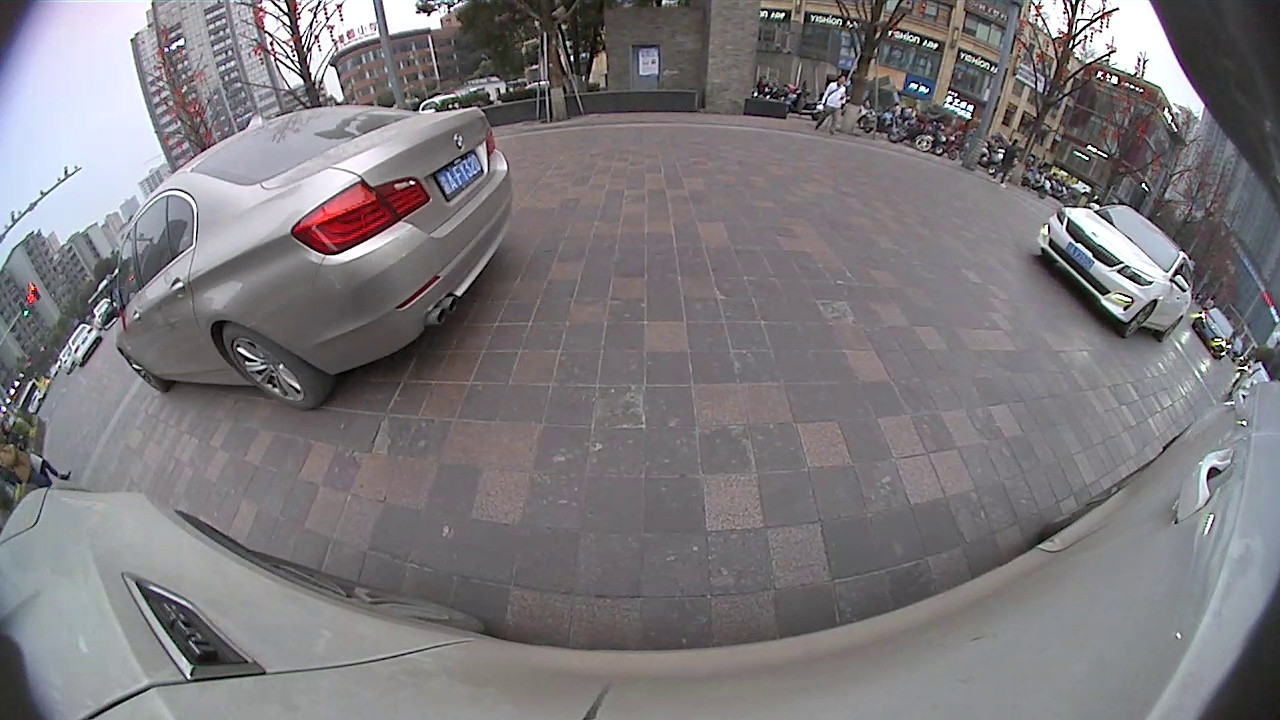car: (113, 102, 515, 412), (1033, 202, 1197, 346), (1192, 305, 1237, 360), (66, 321, 105, 366)
front: (1119, 300, 1157, 343)
person: (1, 448, 73, 478), (826, 71, 846, 134)
rear: (218, 322, 326, 413)
